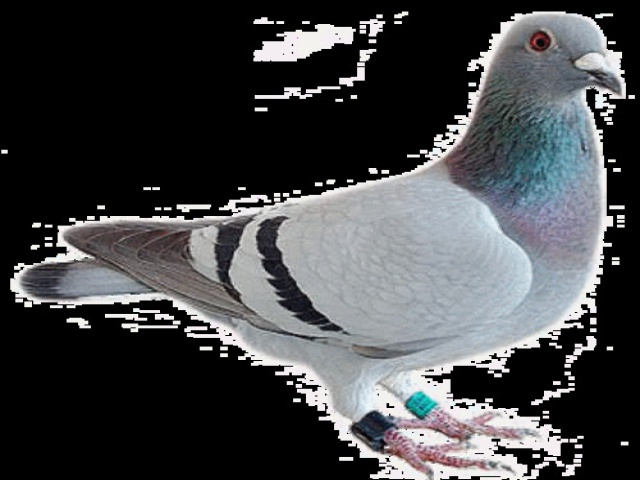Pigeon: (17, 13, 624, 468)
